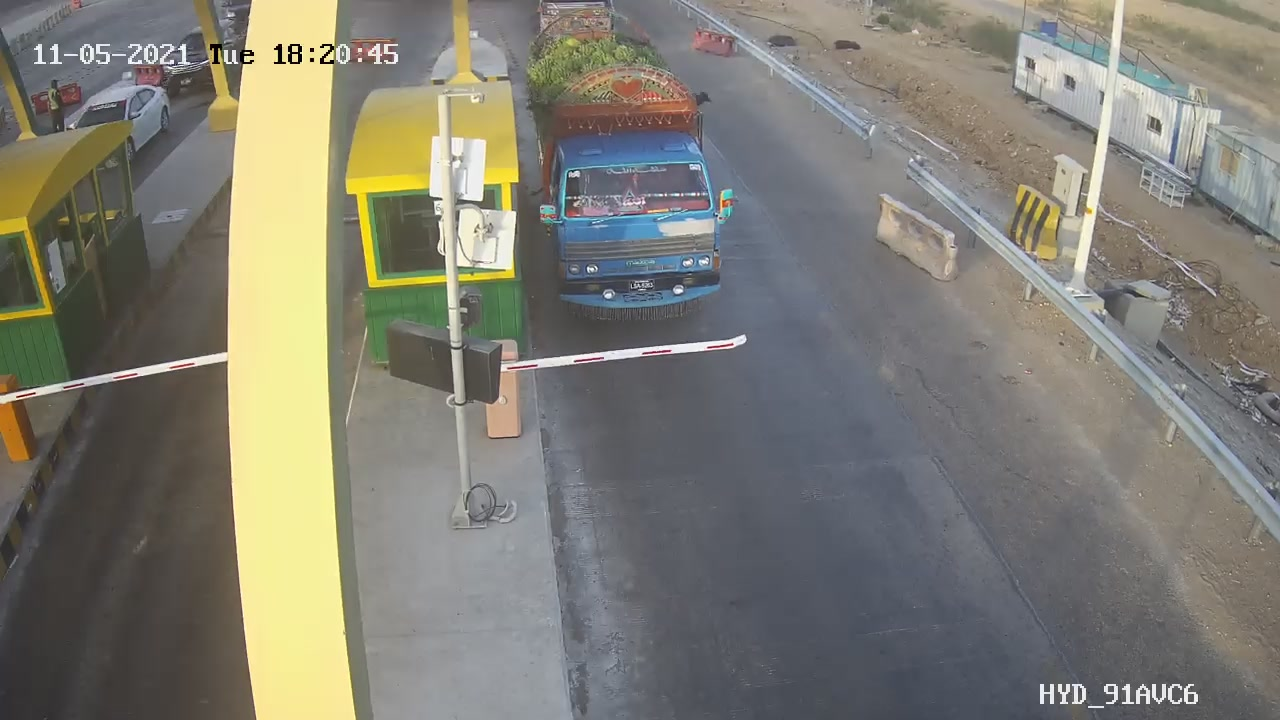F5: (521, 22, 733, 317)
